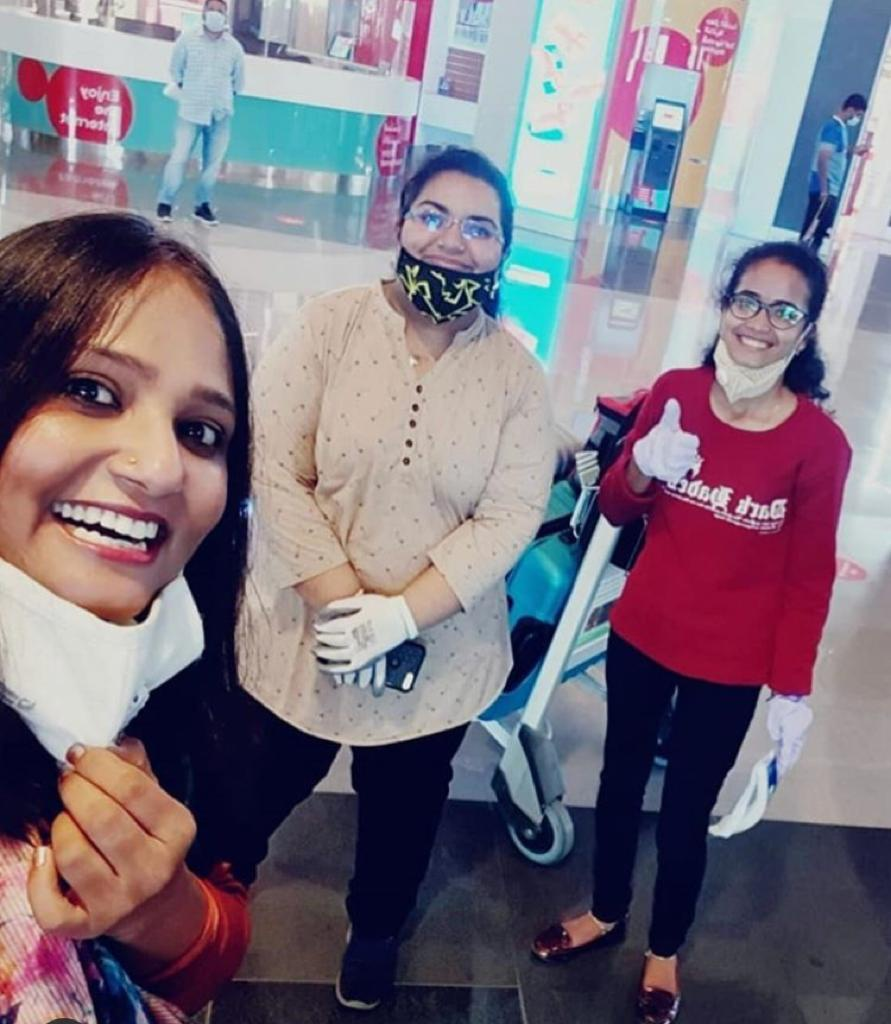mouth: (48, 498, 175, 567), (420, 255, 471, 272), (734, 334, 771, 352)
nose: (105, 453, 185, 496), (434, 236, 466, 254), (745, 317, 769, 332)
